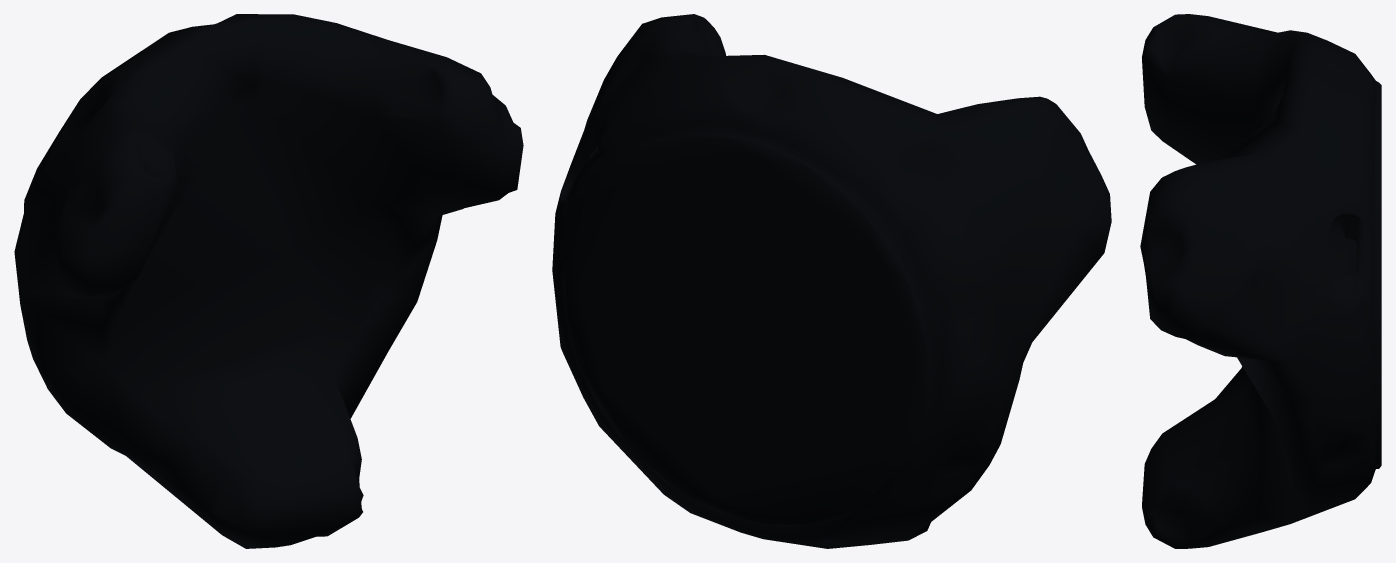
The model's file is htc_vive_tracker_low_poly.glb.
3 renders of one model, left to right at view 1: azimuth 30°, elevation 25°; view 2: azimuth 150°, elevation 25°; view 3: azimuth 270°, elevation 25°, orthographic. The views are drawn at different scales.
Visible parts, largest first — view 1: Object_2; view 2: Object_2; view 3: Object_2.
Boxes of the visible parts, left/top/right/bottom form: Object_2: left=14, top=14, right=523, bottom=548; Object_2: left=552, top=14, right=1111, bottom=548; Object_2: left=1140, top=14, right=1381, bottom=548.
Size of the model in its own units: 90.41 by 87.81 by 40.66.
1 material, 1 textured.
